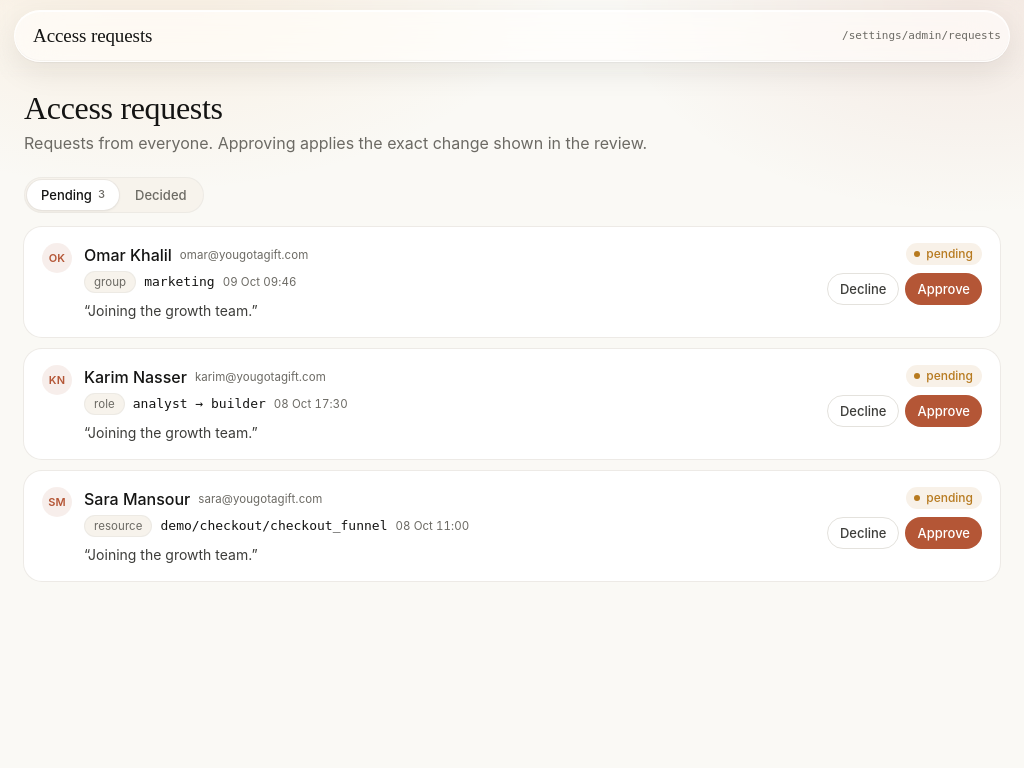
Test: AdminRequestsPage › a 409 after someone else decided refreshes the row and offers no Retry
The image size is (1024, 768).
What coordinates should you click on to do the following:
click the button "Approve" in the row of "09 Oct 09:46"
I would click on:
 (944, 289)
Its box is 906,273 -> 982,305.
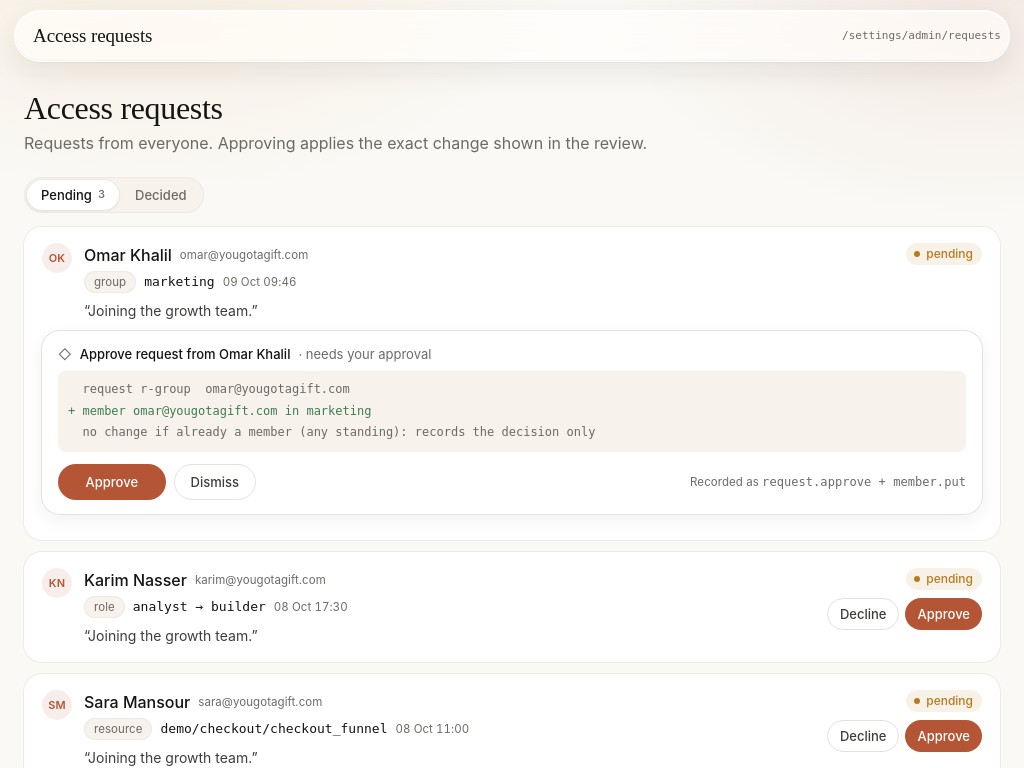
What coordinates should you click on to do the following:
click the button "Approve" in the row of "Recorded as"
I would click on:
 (112, 482)
Its box is 58,464 -> 166,500.
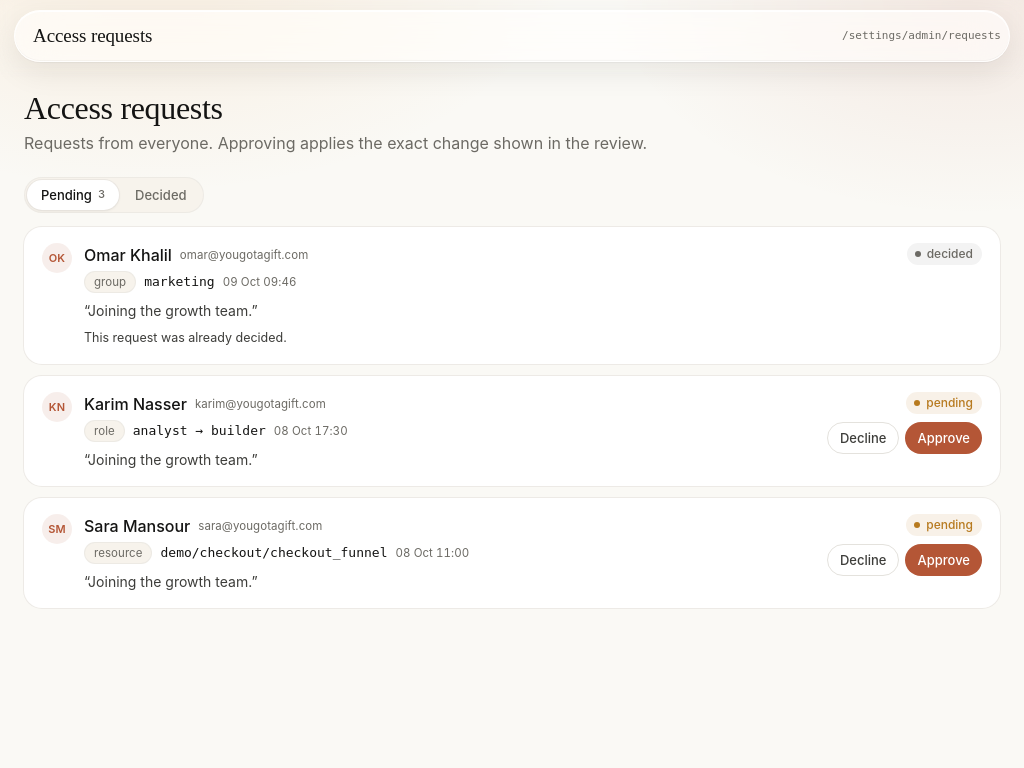
Check: the text "This request was already decided." is shown, box 84,330 -> 287,345
